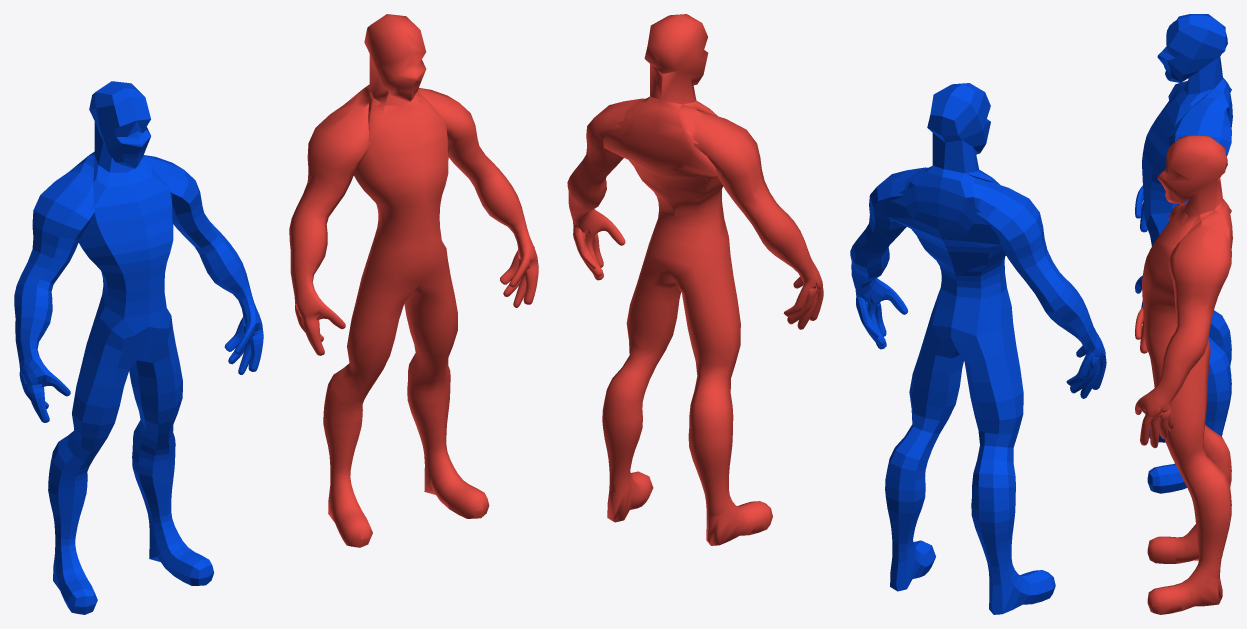
File: Person.glb
3 renders of one model, left to right at view 1: azimuth 30°, elevation 25°; view 2: azimuth 150°, elevation 25°; view 3: azimuth 270°, elevation 25°, orthographic. The views are drawn at different scales.
Parts seen in each view (by area): view 1: v1.4_5, v1.4-smooth_6; view 2: v1.4_5, v1.4-smooth_6; view 3: v1.4-smooth_6, v1.4_5.
Part boxes in pixels (x1,y1,x2,y2): v1.4_5: (14, 81, 263, 614); v1.4-smooth_6: (289, 14, 538, 547); v1.4_5: (850, 83, 1106, 614); v1.4-smooth_6: (567, 14, 823, 545); v1.4-smooth_6: (1135, 135, 1232, 614); v1.4_5: (1135, 14, 1232, 493).
Size of the model in its own units: 3.29 by 3.05 by 0.6027.
